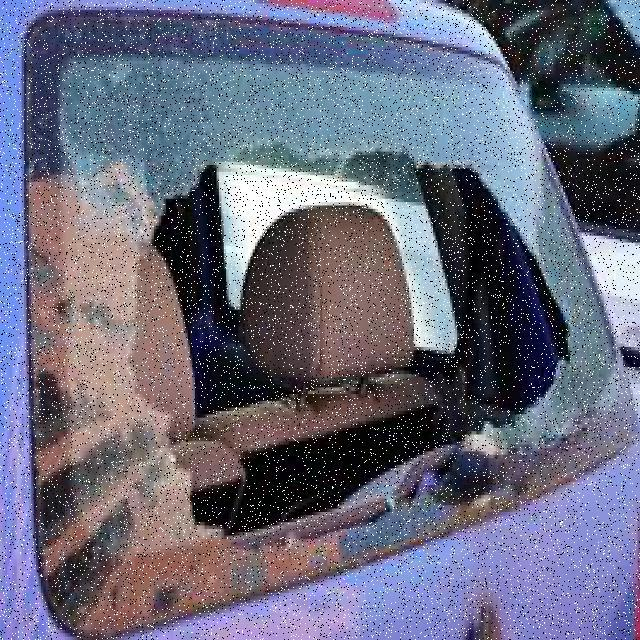Rear-windscreen-Damage: (22, 0, 630, 636)
